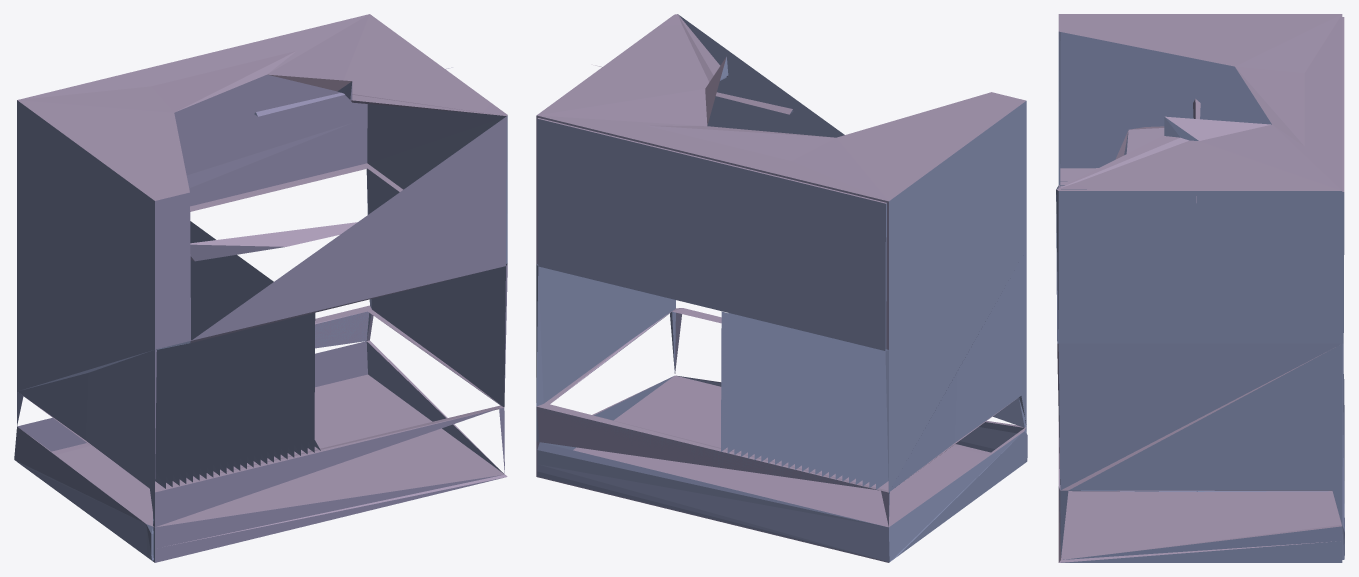
File: ew-cooling-tower.far-facades-v3.lod2.glb
The picture shows the model from 3 angles, left to right: view 1: azimuth 30°, elevation 25°; view 2: azimuth 150°, elevation 25°; view 3: azimuth 270°, elevation 25°; orthographic projection. The views are drawn at different scales.
Visible parts, largest first — view 1: ew-cooling-tower; view 2: ew-cooling-tower; view 3: ew-cooling-tower.
Boxes of the visible parts, box(x1,y1,x2,y2) form: ew-cooling-tower: box(14, 14, 507, 562); ew-cooling-tower: box(536, 14, 1027, 562); ew-cooling-tower: box(1056, 14, 1344, 562).
Bounding box in the file's own units: 12.2 × 12 × 7.97.
